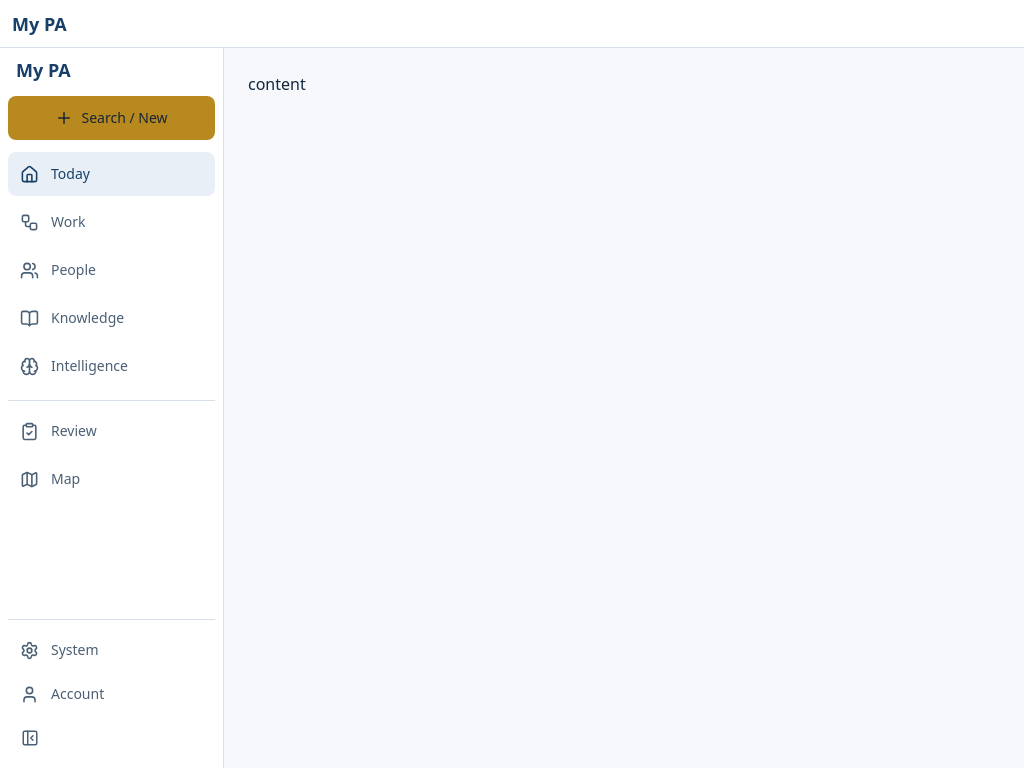
app shell › opens one Search or create launcher from Cmd/Ctrl+K and returns Search through initial
Press k
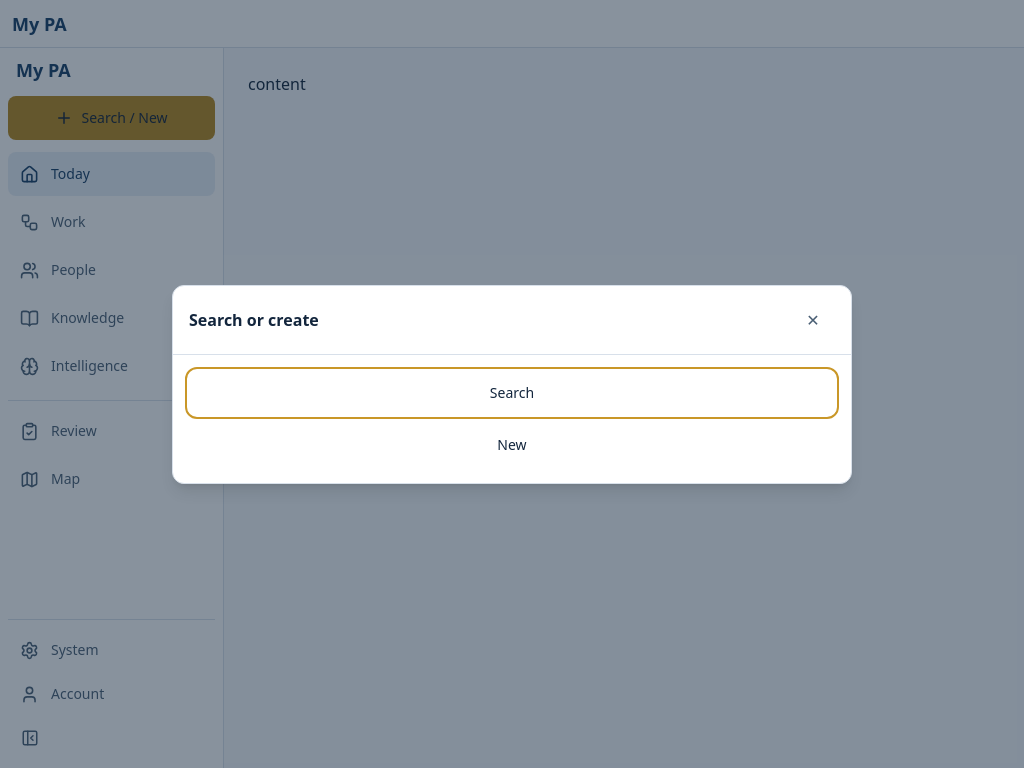
expect the number of dialogs is 1: met, box [172, 284, 852, 484]
Click the button "Search": (512, 392) [189, 370, 835, 414]
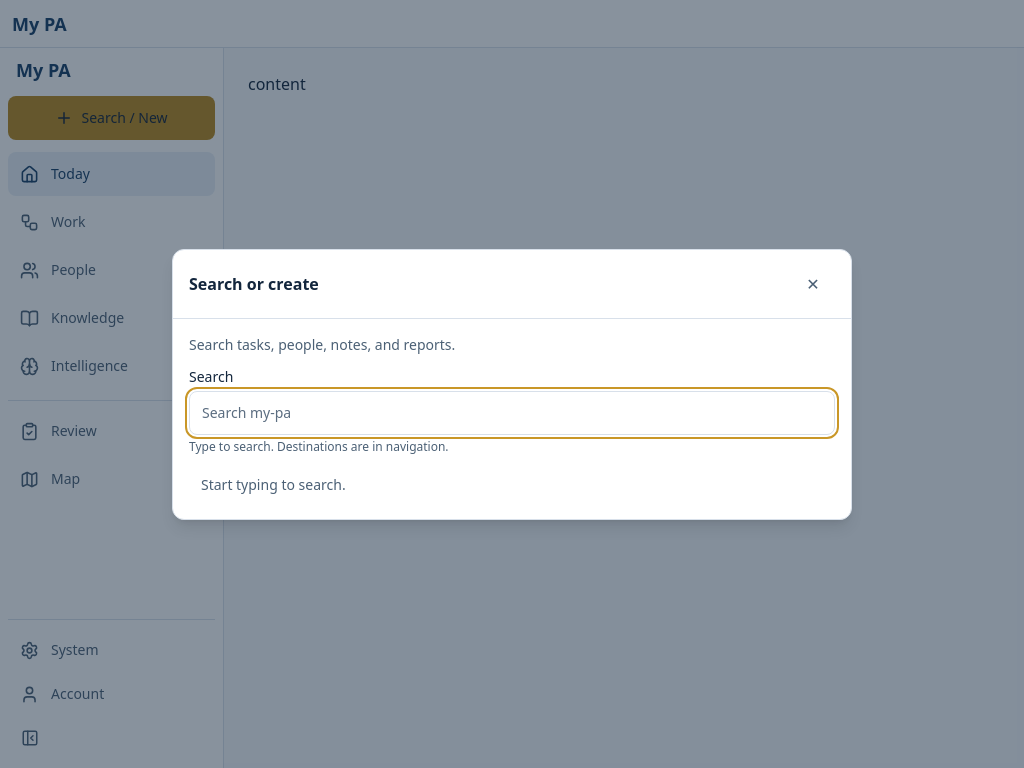
expect the search field with test id "search-command-input" is shown: met
Press Escape in the search field labelled "Search", box [189, 390, 835, 434]
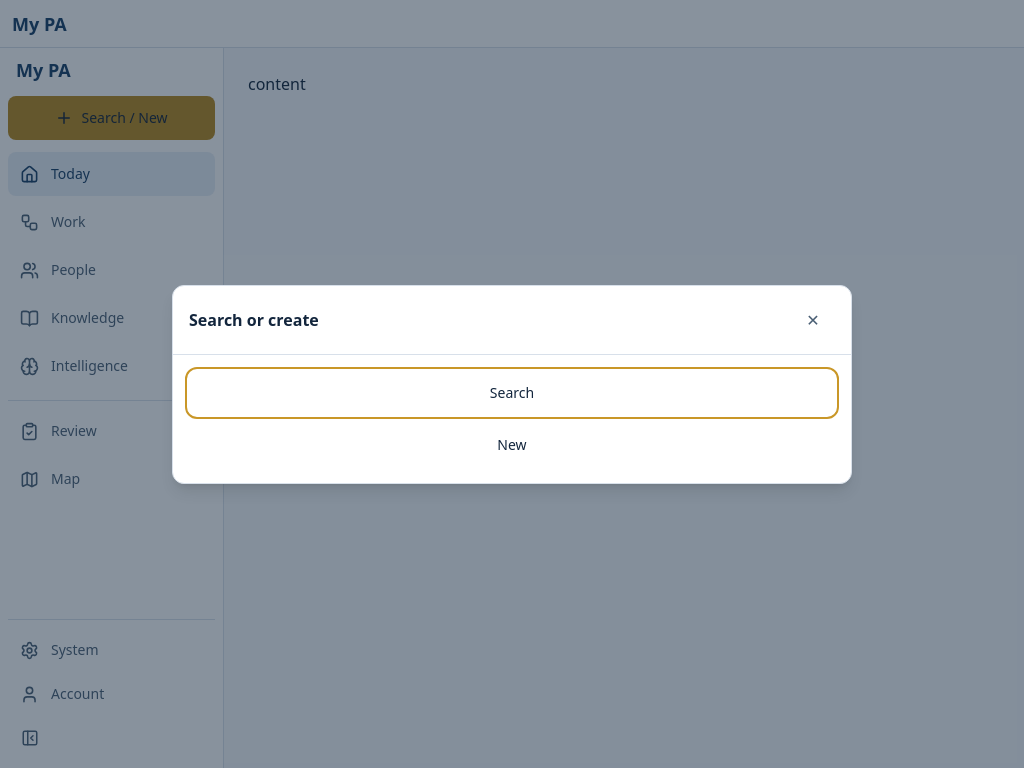
Press Escape
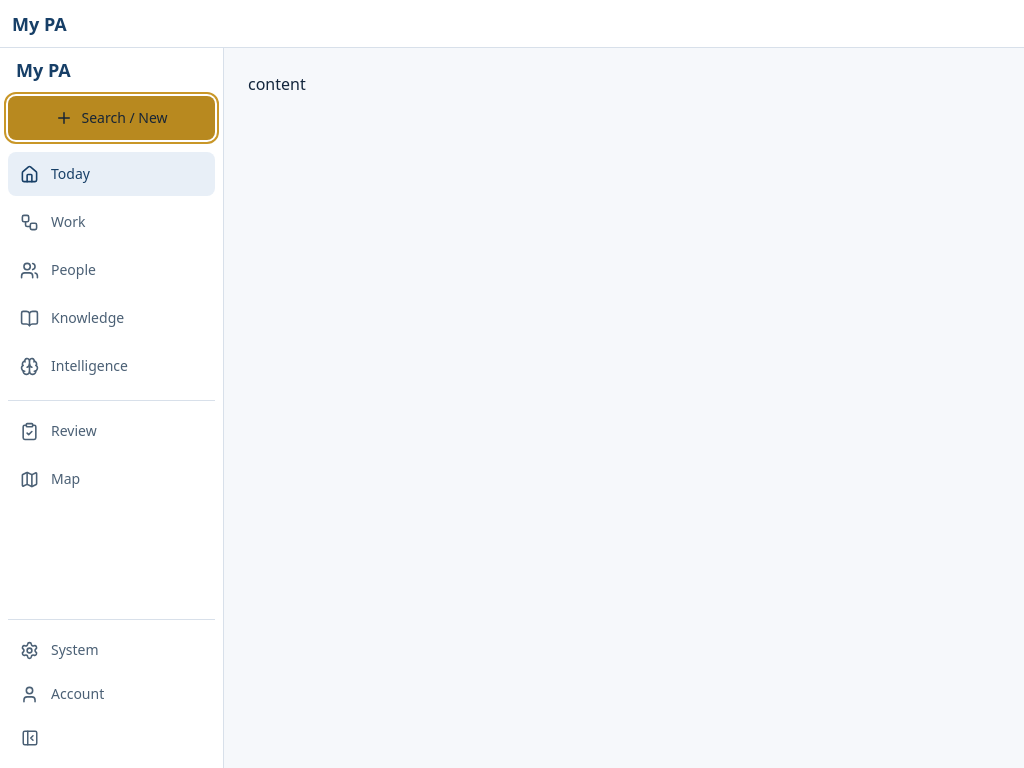
expect the heading "Search or create" is gone: met
